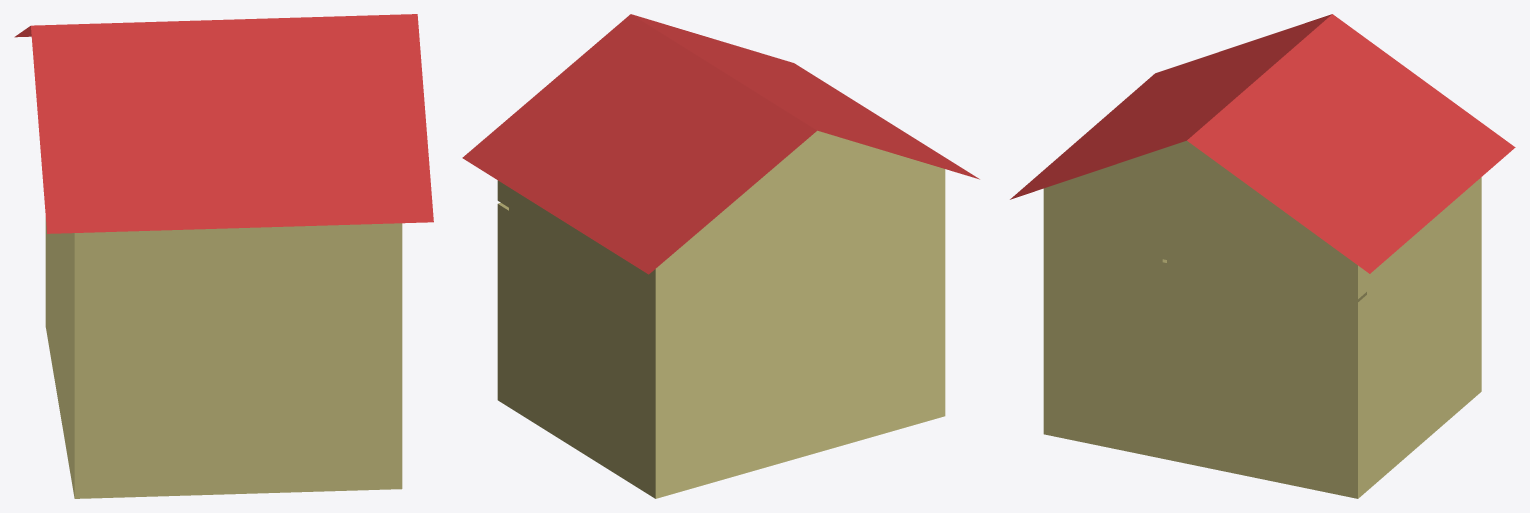
3 views of the same model, side by side, from view 1: azimuth 30°, elevation 25°; view 2: azimuth 150°, elevation 25°; view 3: azimuth 270°, elevation 25° (orthographic). The views are drawn at different scales.
Size of the model in its own units: 13.96 by 14.87 by 10.86.
